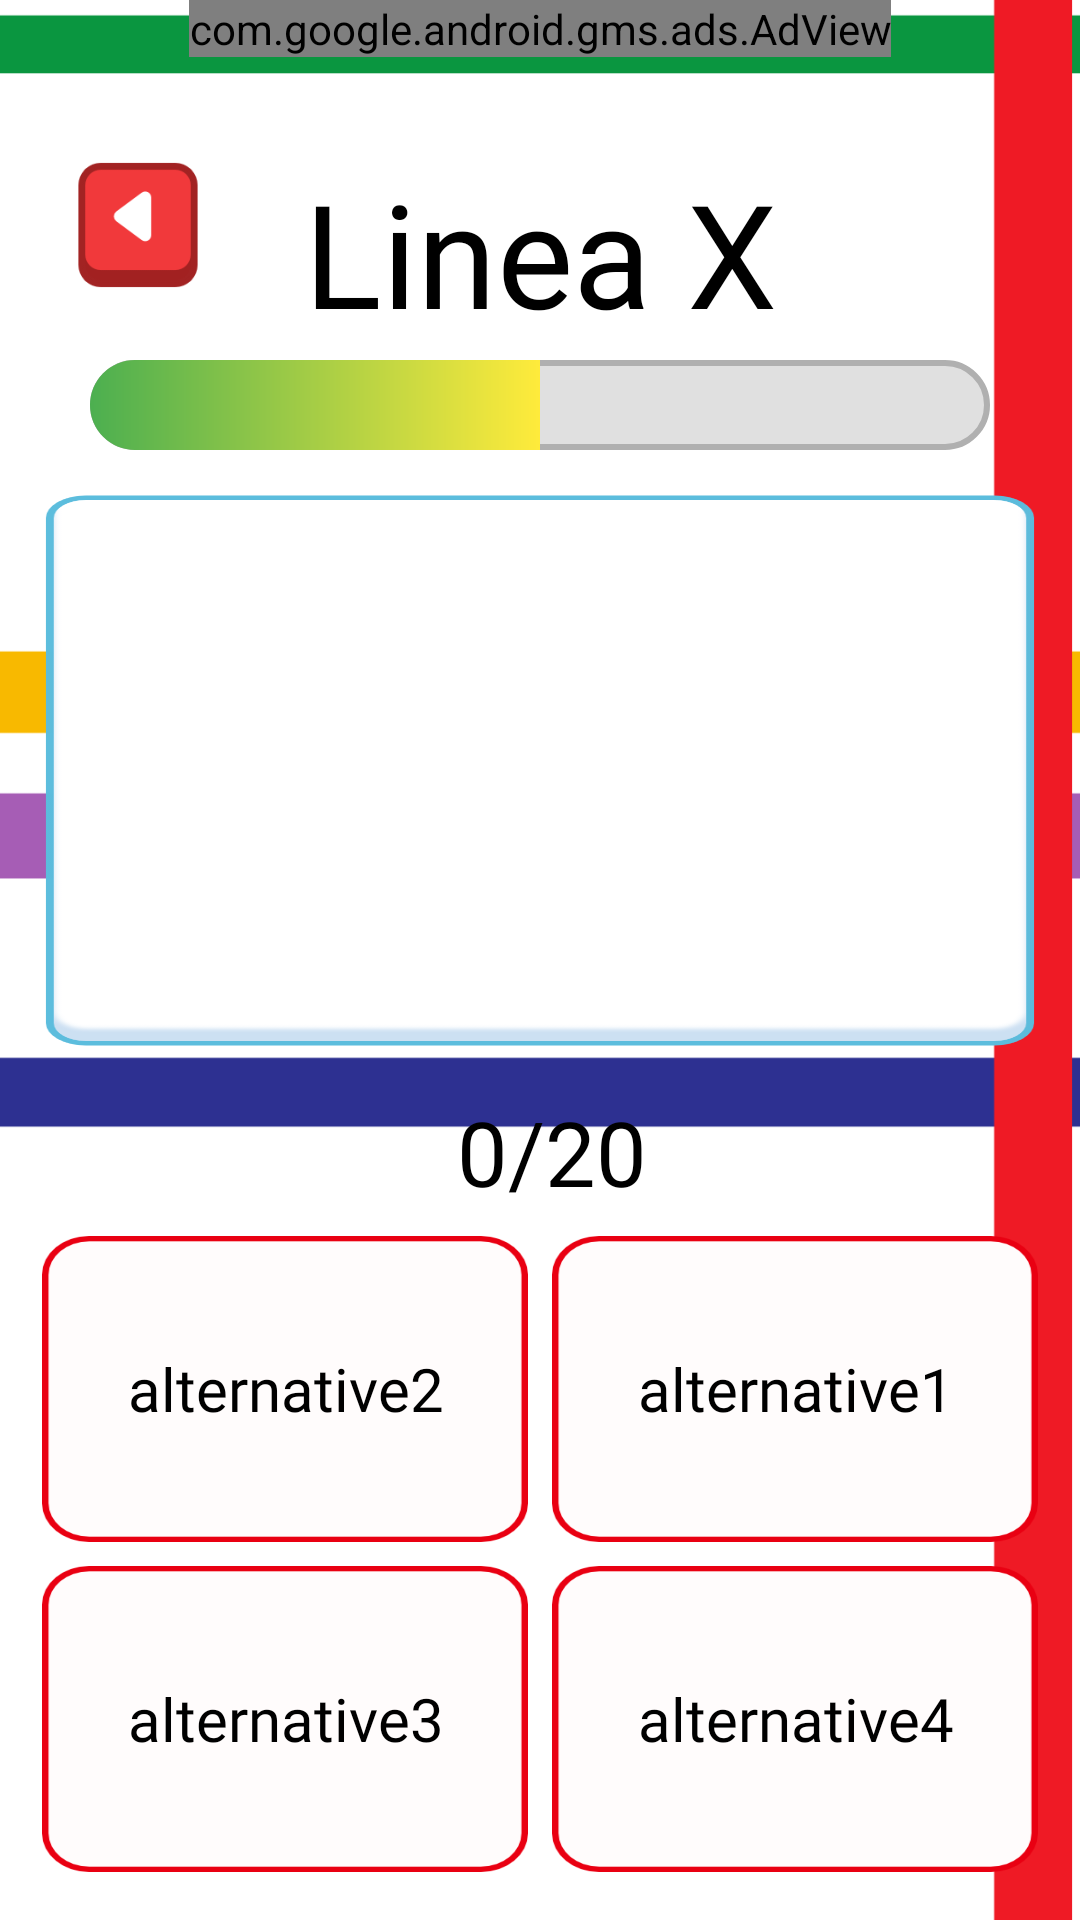

Screen size 1080 × 1920. Icon name, then its center in pixels as point (x, y):
Boton para ir hacia atras: point (138, 225)
